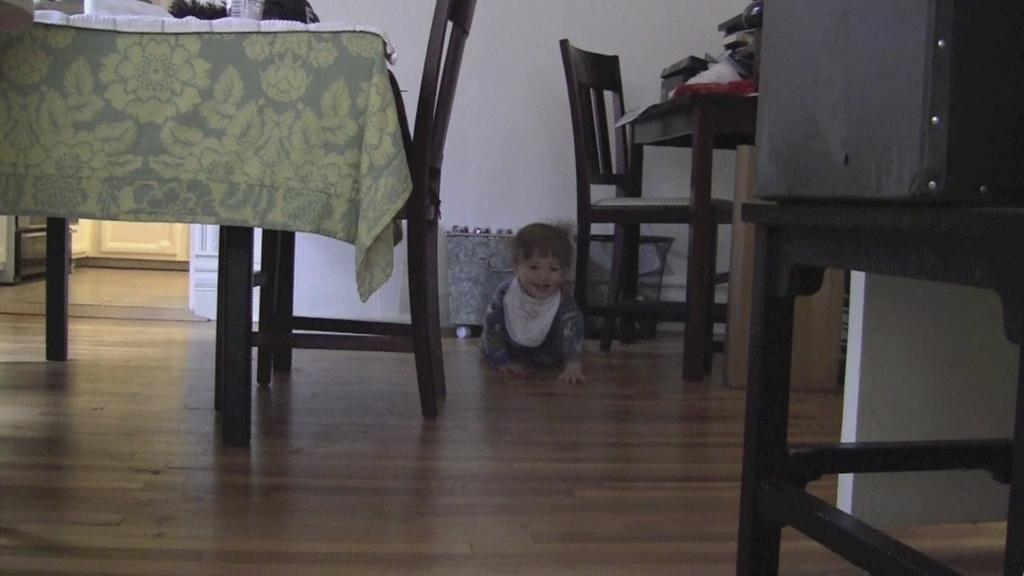Sem Máscara: (515, 246, 563, 299)
